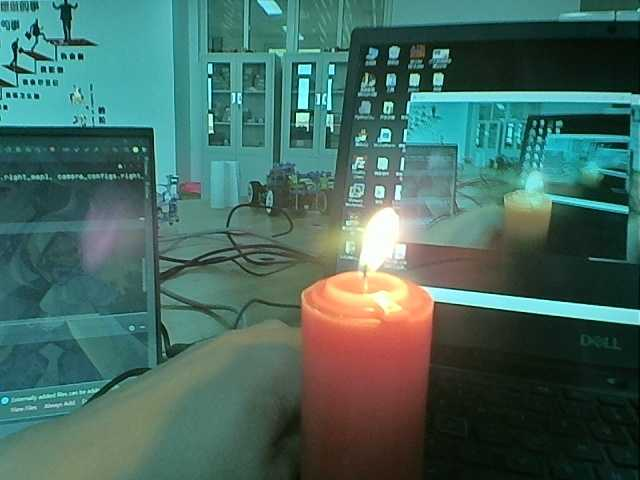candle: (296, 274, 435, 479)
fire: (341, 198, 411, 282)
